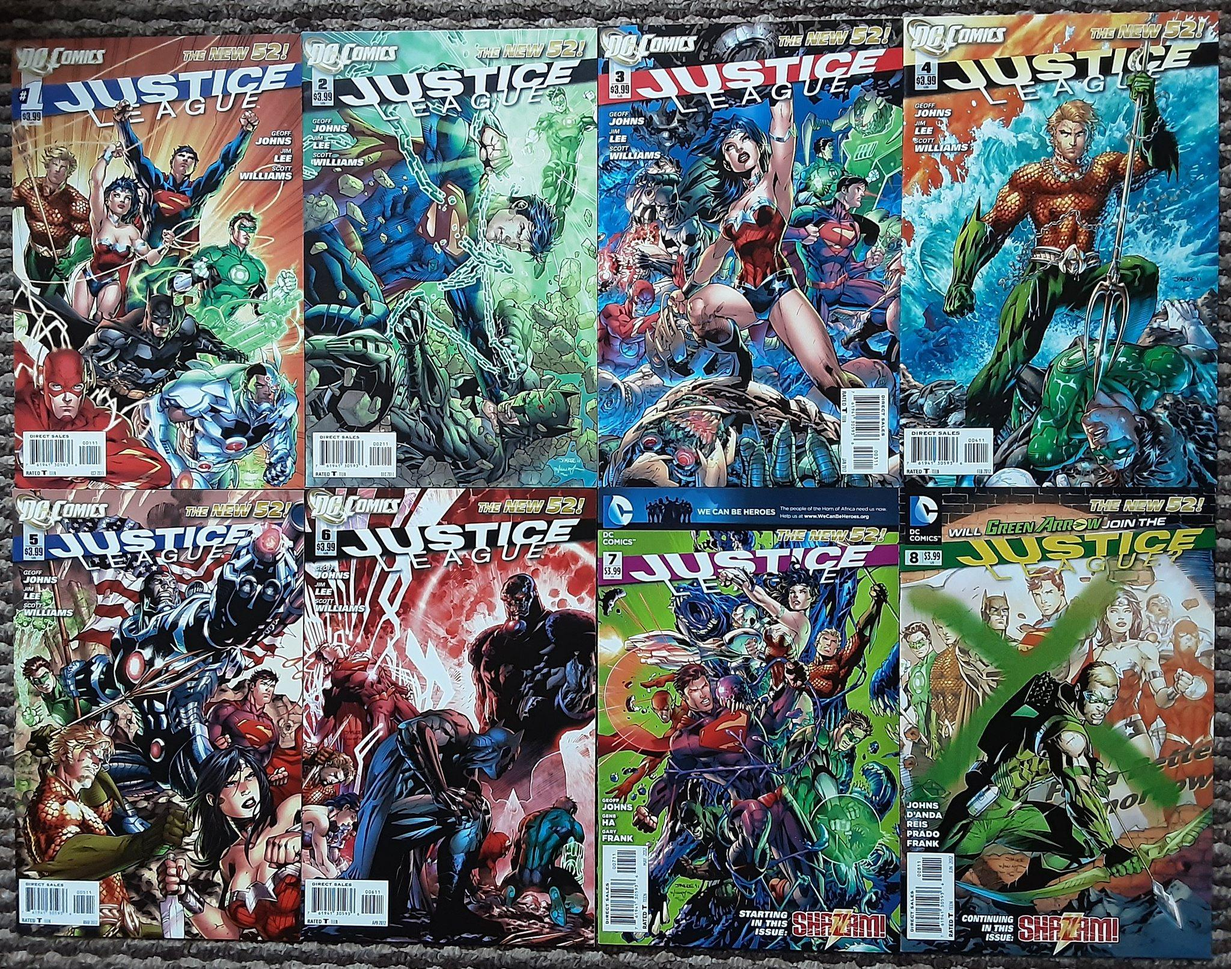comic: (900, 10, 1220, 489), (898, 487, 1216, 959), (598, 17, 902, 487), (597, 489, 899, 952), (302, 488, 596, 948), (303, 27, 596, 487), (12, 35, 304, 490), (13, 487, 304, 941)
